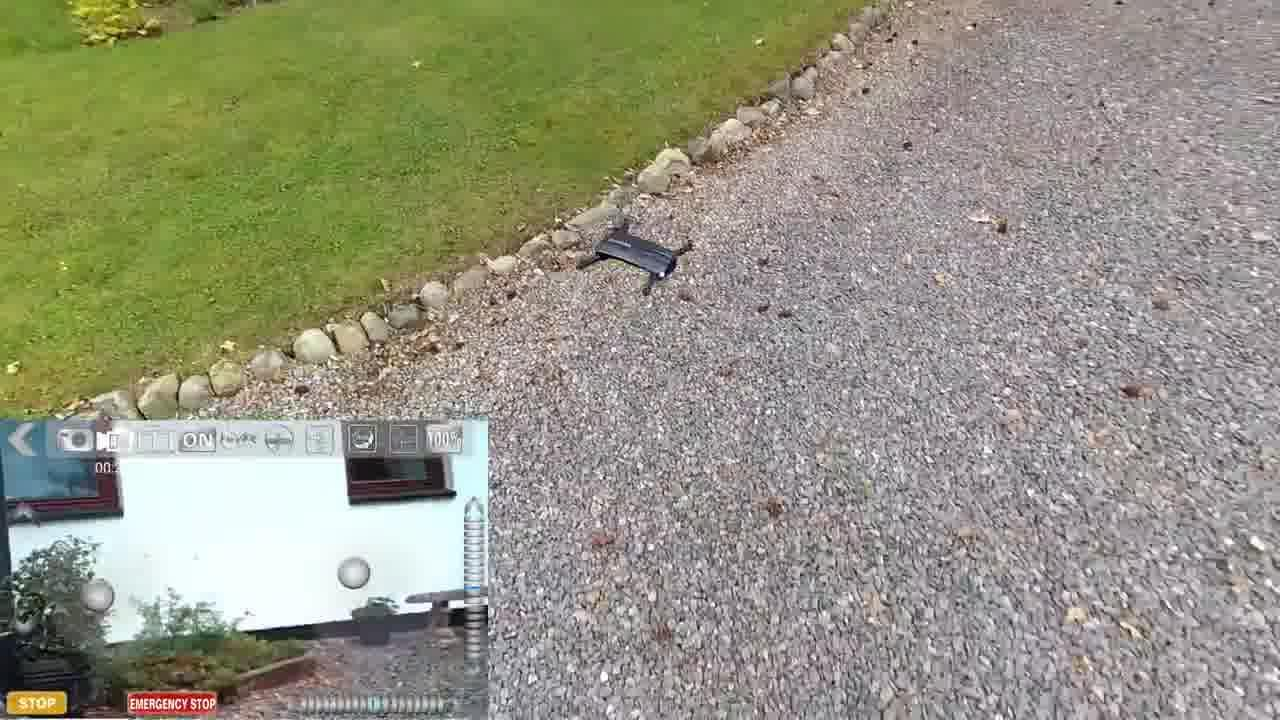drone: (570, 201, 706, 302)
